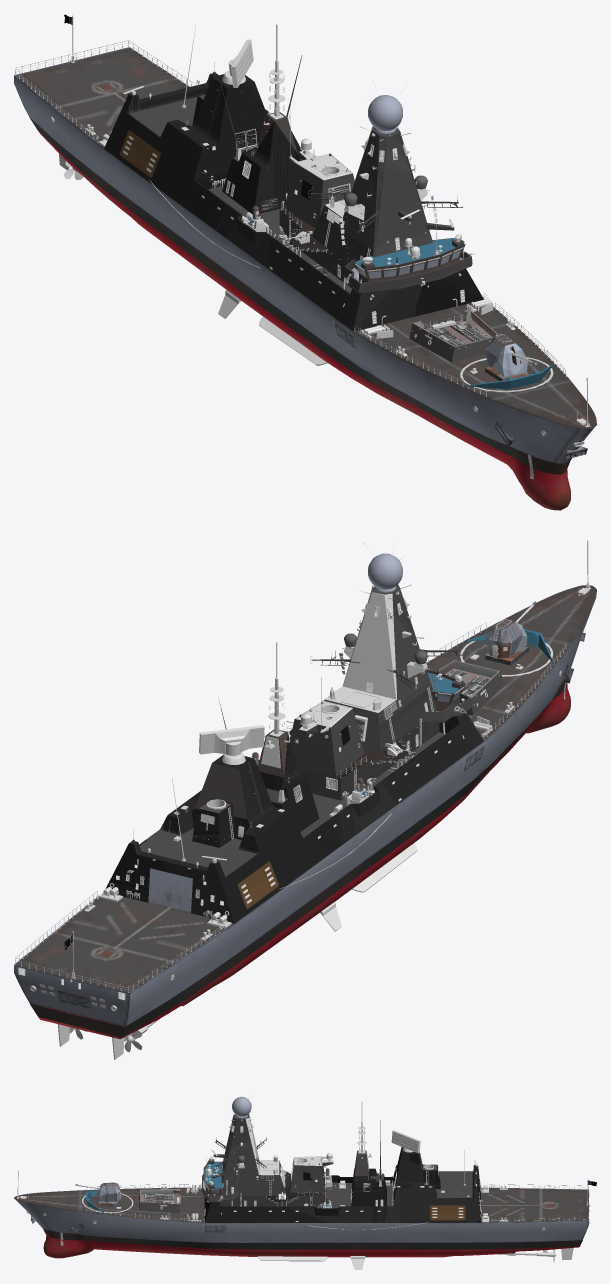
The model's file is HMS_Daring_Optimized.fbx.
3 renders of one model, top to bottom at view 1: azimuth 30°, elevation 25°; view 2: azimuth 150°, elevation 25°; view 3: azimuth 270°, elevation 25°, orthographic. The views are drawn at different scales.
Parts seen in each view (by area): view 1: boat, gun; view 2: boat, gun; view 3: boat, gun.
Part boxes in pixels (x1=…): boat: x1=14, y1=14, x2=596, y2=510; gun: x1=485, y1=333, x2=527, y2=376; boat: x1=14, y1=540, x2=596, y2=1059; gun: x1=485, y1=619, x2=527, y2=658; boat: x1=14, y1=1094, x2=596, y2=1269; gun: x1=97, y1=1182, x2=120, y2=1201.
Bounding box in the file's own units: 2314 × 4712 × 15241.
